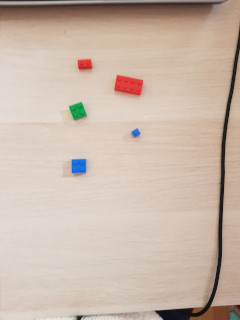1x2 red: (77, 58, 93, 70)
2x2 blue: (71, 159, 87, 174)
2x2 green: (68, 101, 87, 122)
2x4 red: (114, 74, 144, 97)
